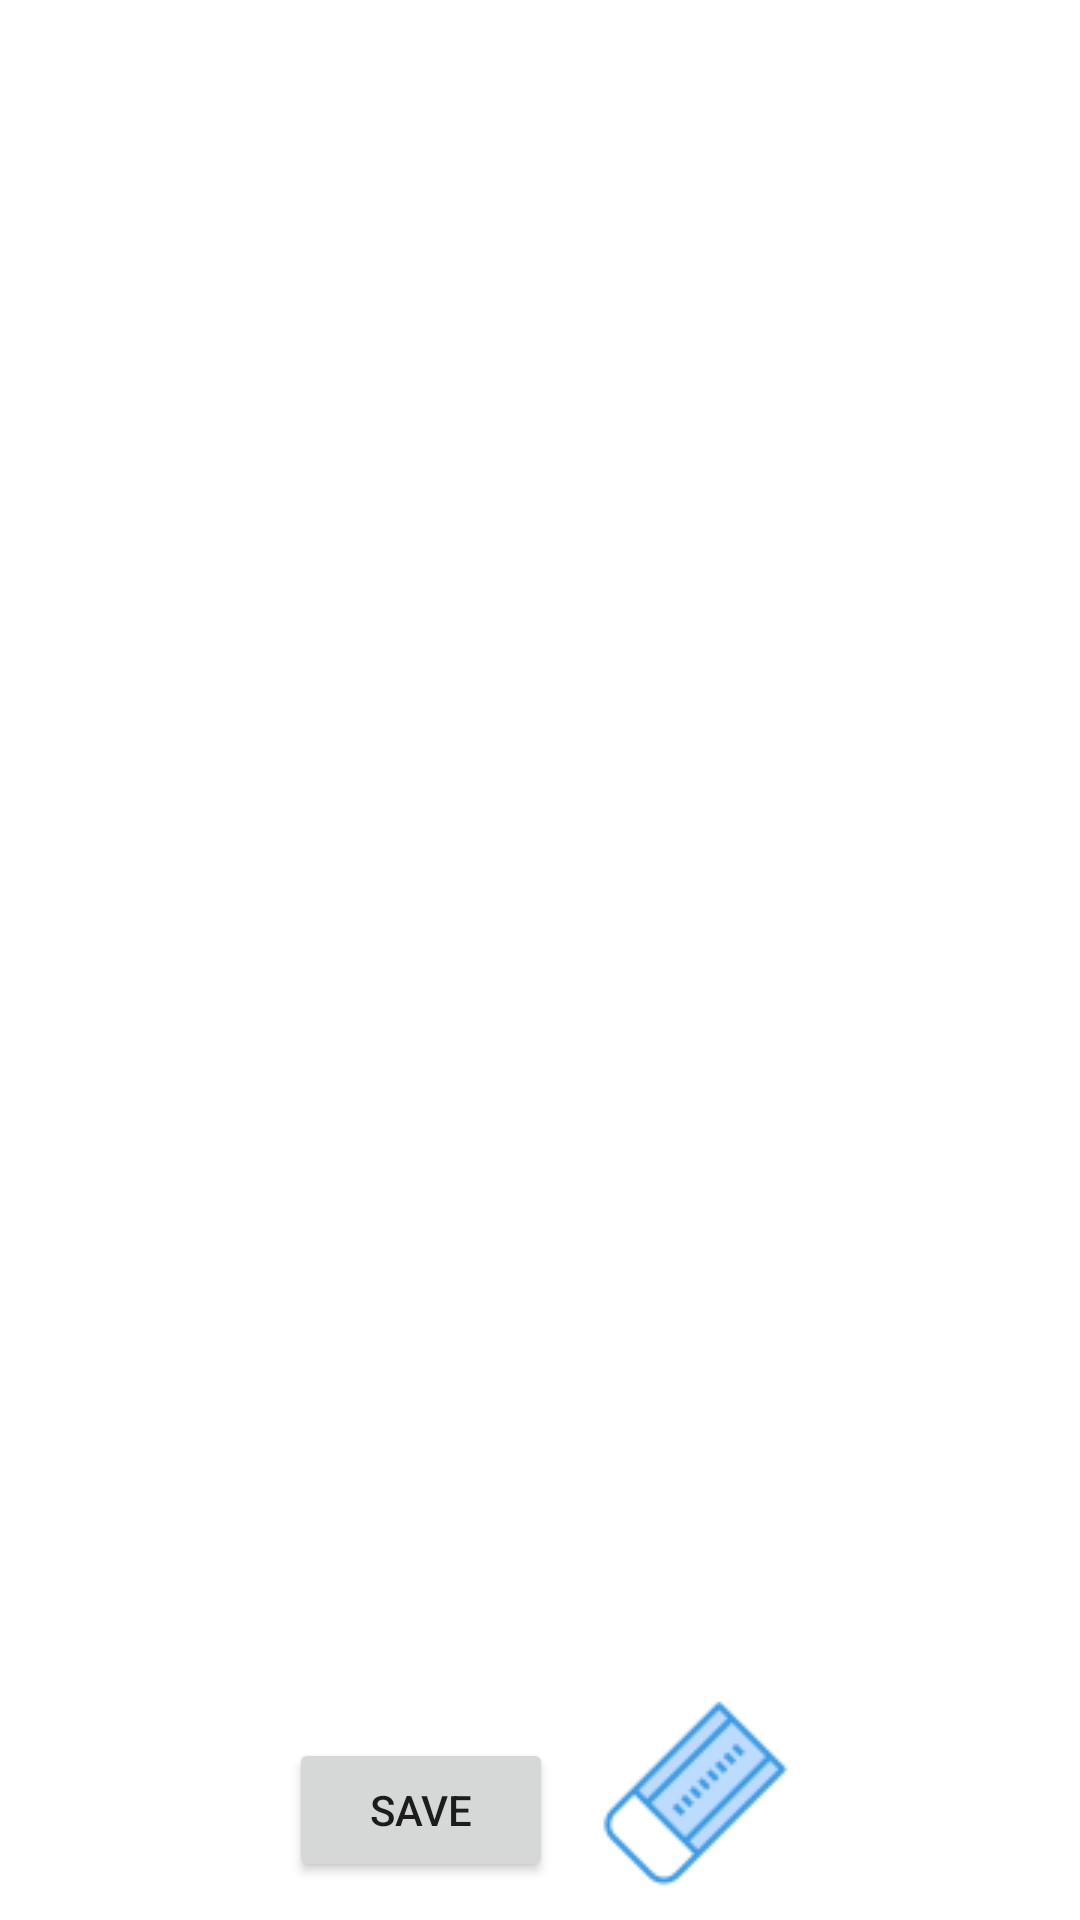

Screen size 1080px x 1920px. Icon name, then its center in pixels as (x=x, y=y):
eraser: (x=695, y=1793)
